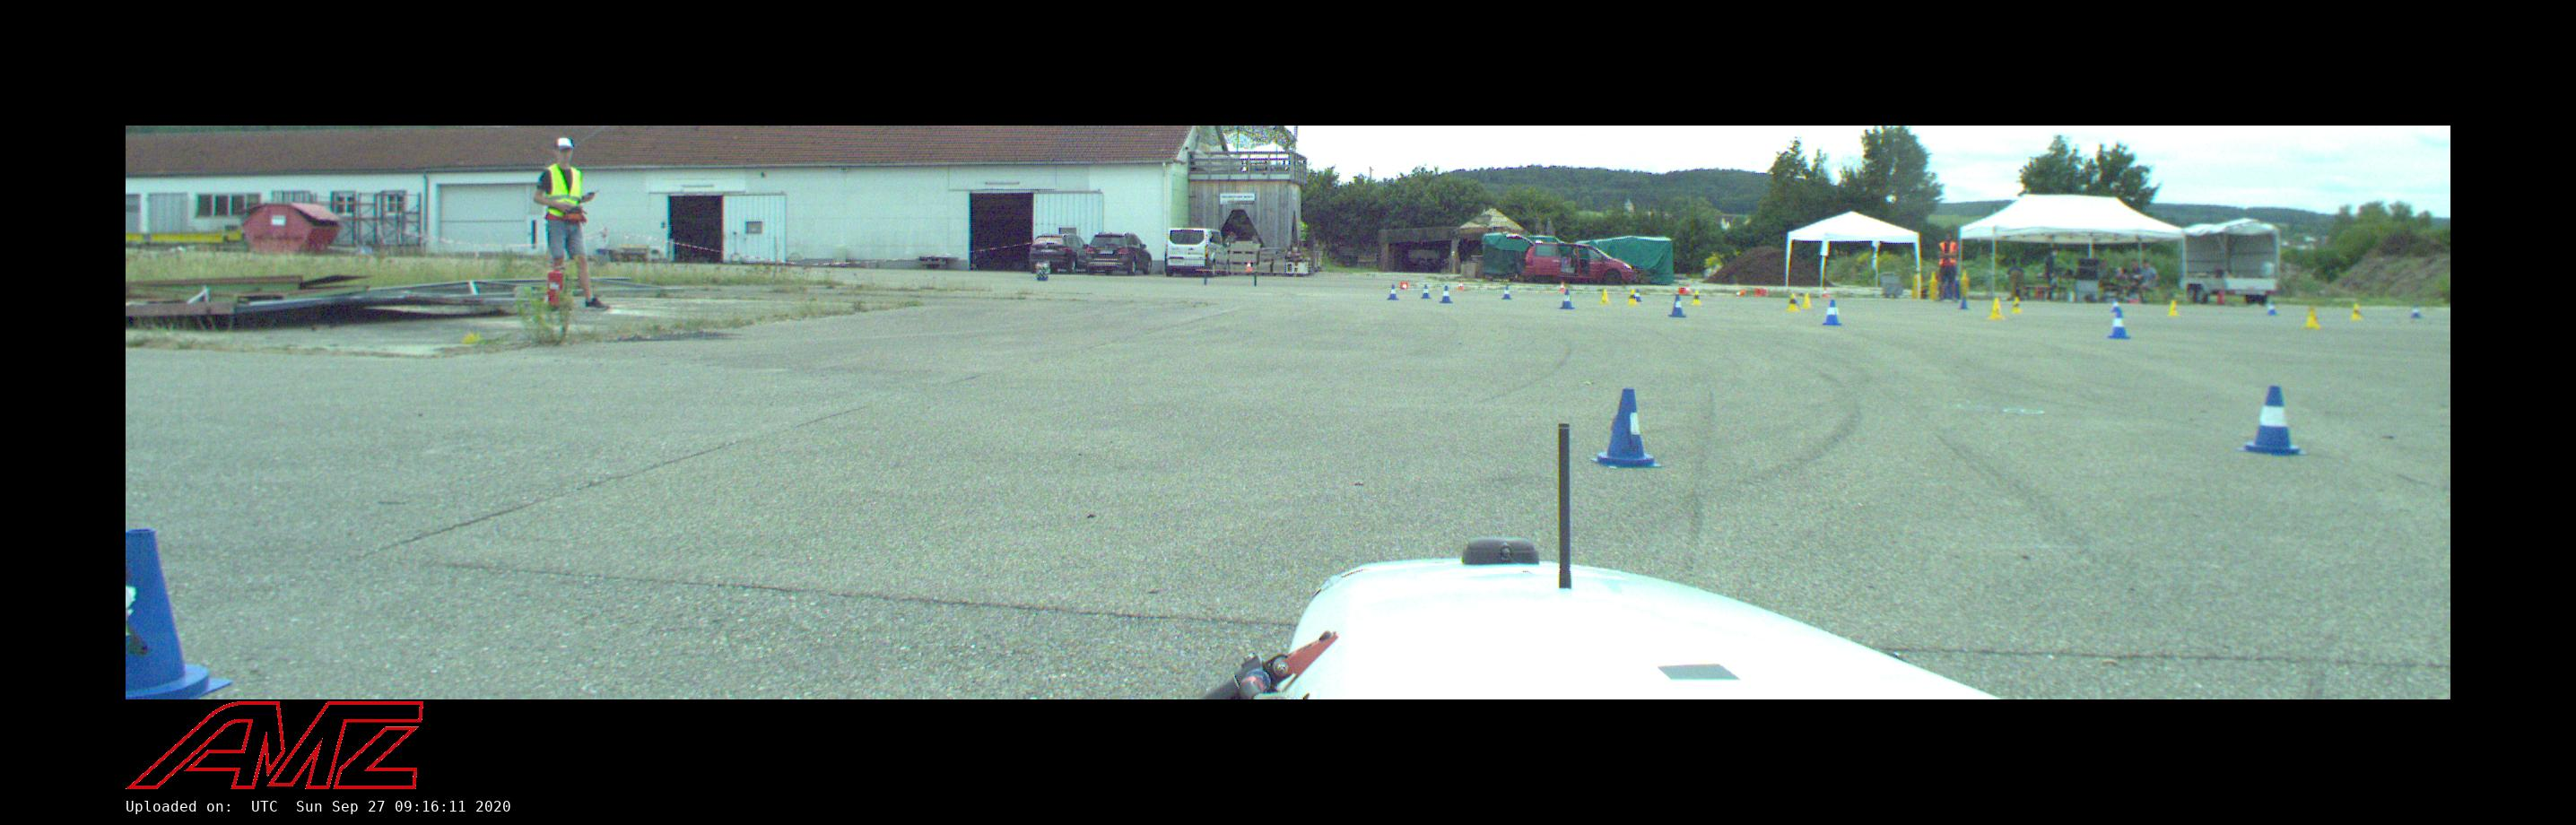blue_cone: (126, 529, 231, 699), (1591, 389, 1662, 467), (2238, 386, 2308, 456), (2108, 309, 2130, 339), (1823, 300, 1842, 325), (1669, 295, 1686, 317), (1560, 290, 1574, 308), (1440, 286, 1453, 303), (2410, 305, 2422, 318), (1388, 285, 1398, 300), (1421, 285, 1432, 299), (1502, 287, 1512, 300), (2267, 302, 2276, 315), (1960, 298, 1968, 308), (2111, 300, 2118, 312), (1635, 289, 1641, 301)
yellow_cone: (1989, 299, 2005, 319), (2303, 310, 2320, 328), (1786, 294, 1799, 310), (2166, 300, 2180, 316), (1600, 289, 1611, 303), (1801, 293, 1812, 308), (2351, 304, 2361, 319), (1627, 290, 1637, 305), (1692, 291, 1701, 305), (2012, 298, 2021, 312)
